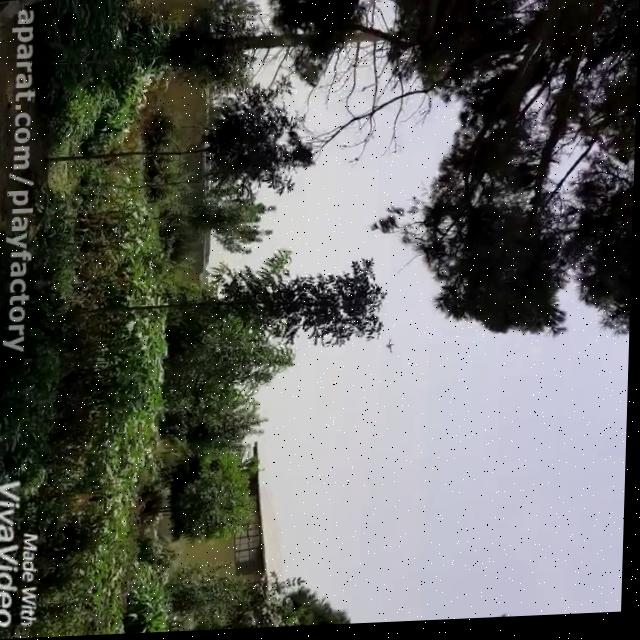drone: (385, 334, 402, 358)
